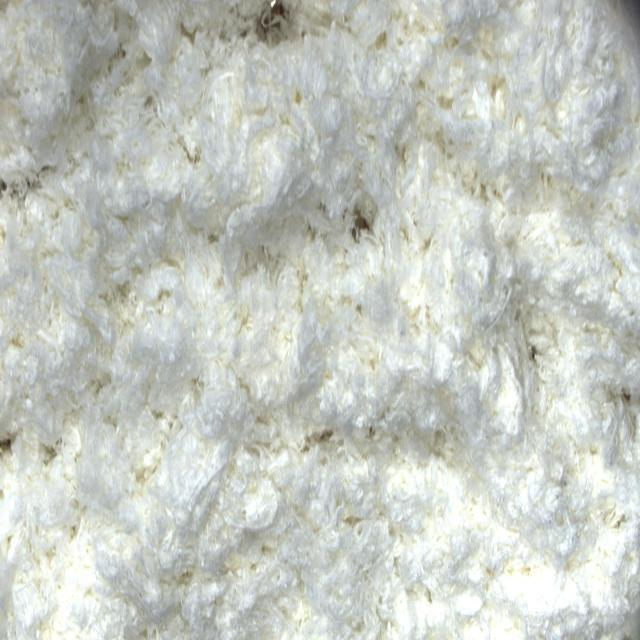dust: (253, 0, 317, 54), (346, 180, 379, 251)
